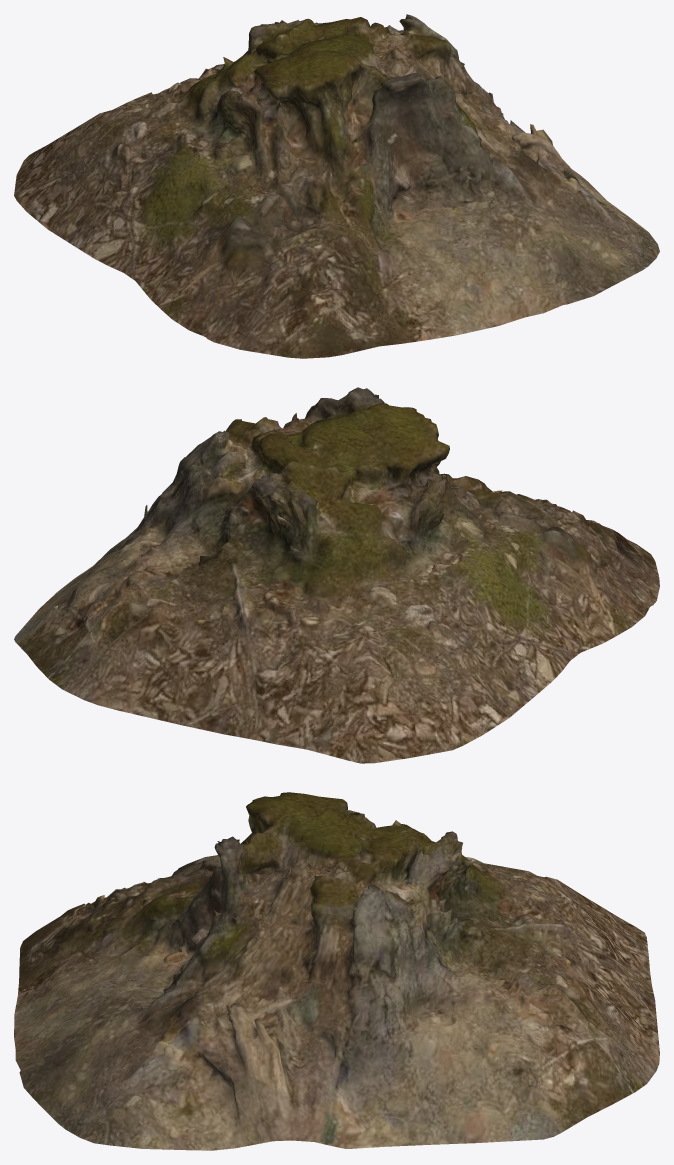
File: tree_stump_01.glb
The picture shows the model from 3 angles, top to bottom: view 1: azimuth 30°, elevation 25°; view 2: azimuth 150°, elevation 25°; view 3: azimuth 270°, elevation 25°; orthographic projection. The views are drawn at different scales.
Parts seen in each view (by area): view 1: tree_stump_01; view 2: tree_stump_01; view 3: tree_stump_01.
Part boxes in pixels (x1=…): tree_stump_01: x1=14, y1=14, x2=659, y2=358; tree_stump_01: x1=14, y1=387, x2=659, y2=763; tree_stump_01: x1=14, y1=792, x2=659, y2=1150.
Size of the model in its own units: 1.43 by 0.5725 by 1.59.
Materials: 1 (1 with a texture image).
